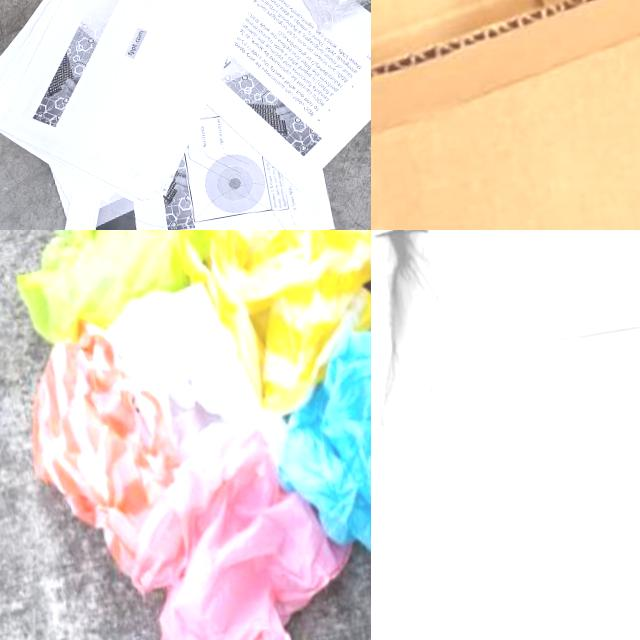garrafa plástica: (371, 0, 640, 230), (290, 0, 371, 30)
papel: (0, 0, 371, 230)
sacola plástica: (371, 230, 640, 640), (106, 425, 359, 640), (3, 318, 168, 542), (186, 230, 371, 399), (0, 230, 213, 350), (270, 317, 371, 558), (115, 285, 252, 448)
